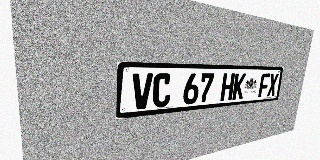6: (182, 73, 200, 105)
7: (198, 73, 214, 103)
C: (152, 73, 172, 108)
F: (258, 73, 270, 97)
H: (220, 73, 235, 101)
K: (232, 73, 246, 100)
V: (131, 73, 153, 110)
X: (267, 73, 279, 96)
